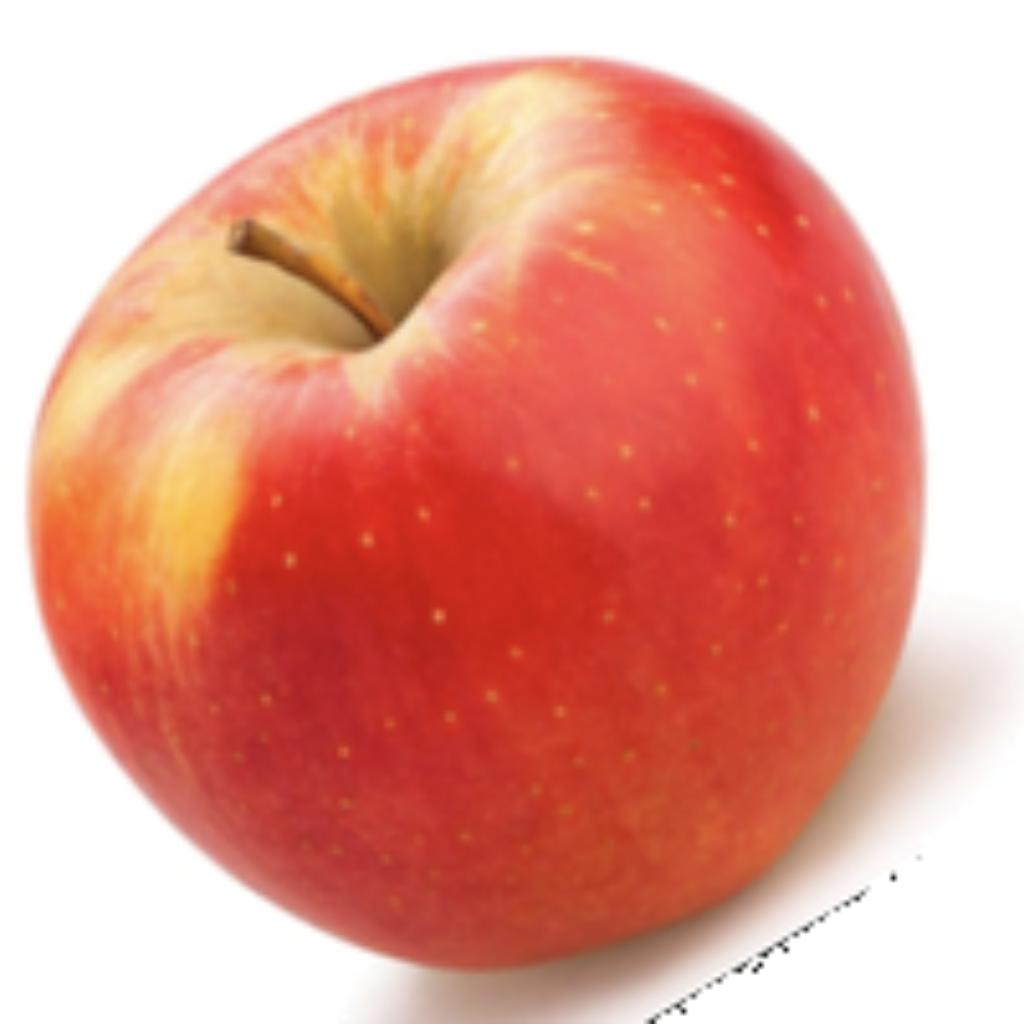apple: (15, 46, 1014, 1019)
